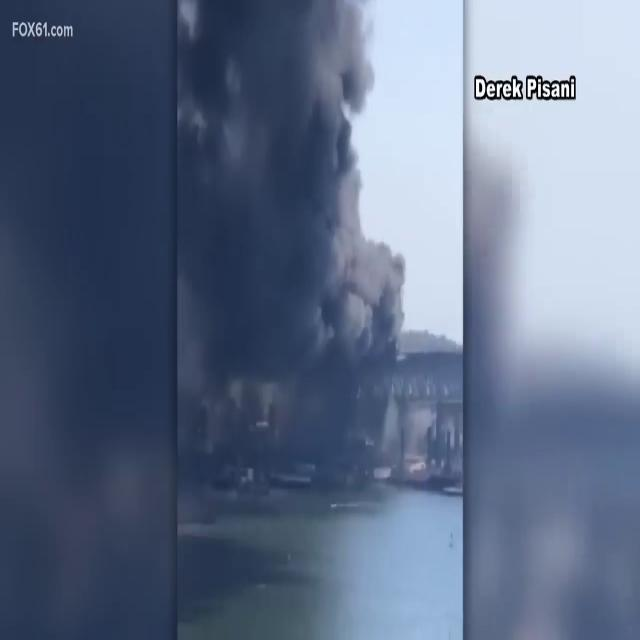Smoke: (178, 0, 404, 490), (316, 4, 402, 374)
